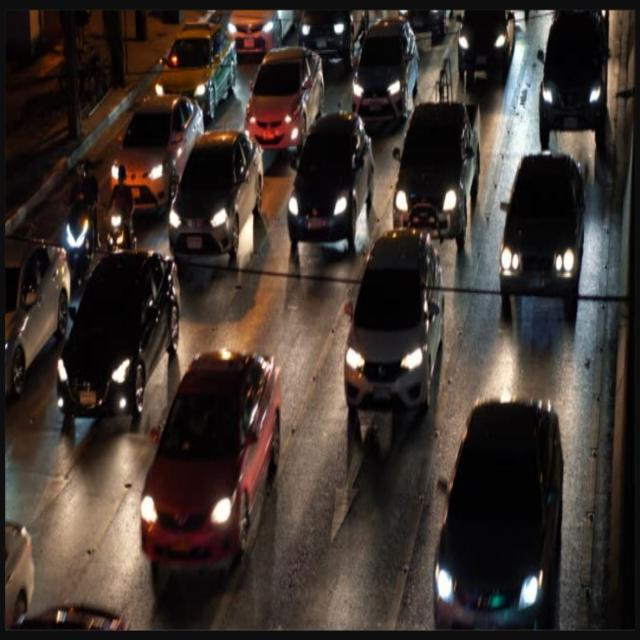headlights: (416, 556, 554, 624), (127, 483, 243, 541), (47, 346, 145, 396), (336, 339, 439, 383), (379, 182, 474, 225), (488, 242, 586, 280), (162, 198, 239, 239), (529, 76, 610, 114), (279, 189, 355, 229), (97, 159, 169, 188), (347, 76, 408, 109), (145, 75, 213, 104), (452, 28, 514, 58), (291, 15, 349, 42), (221, 15, 280, 40)
